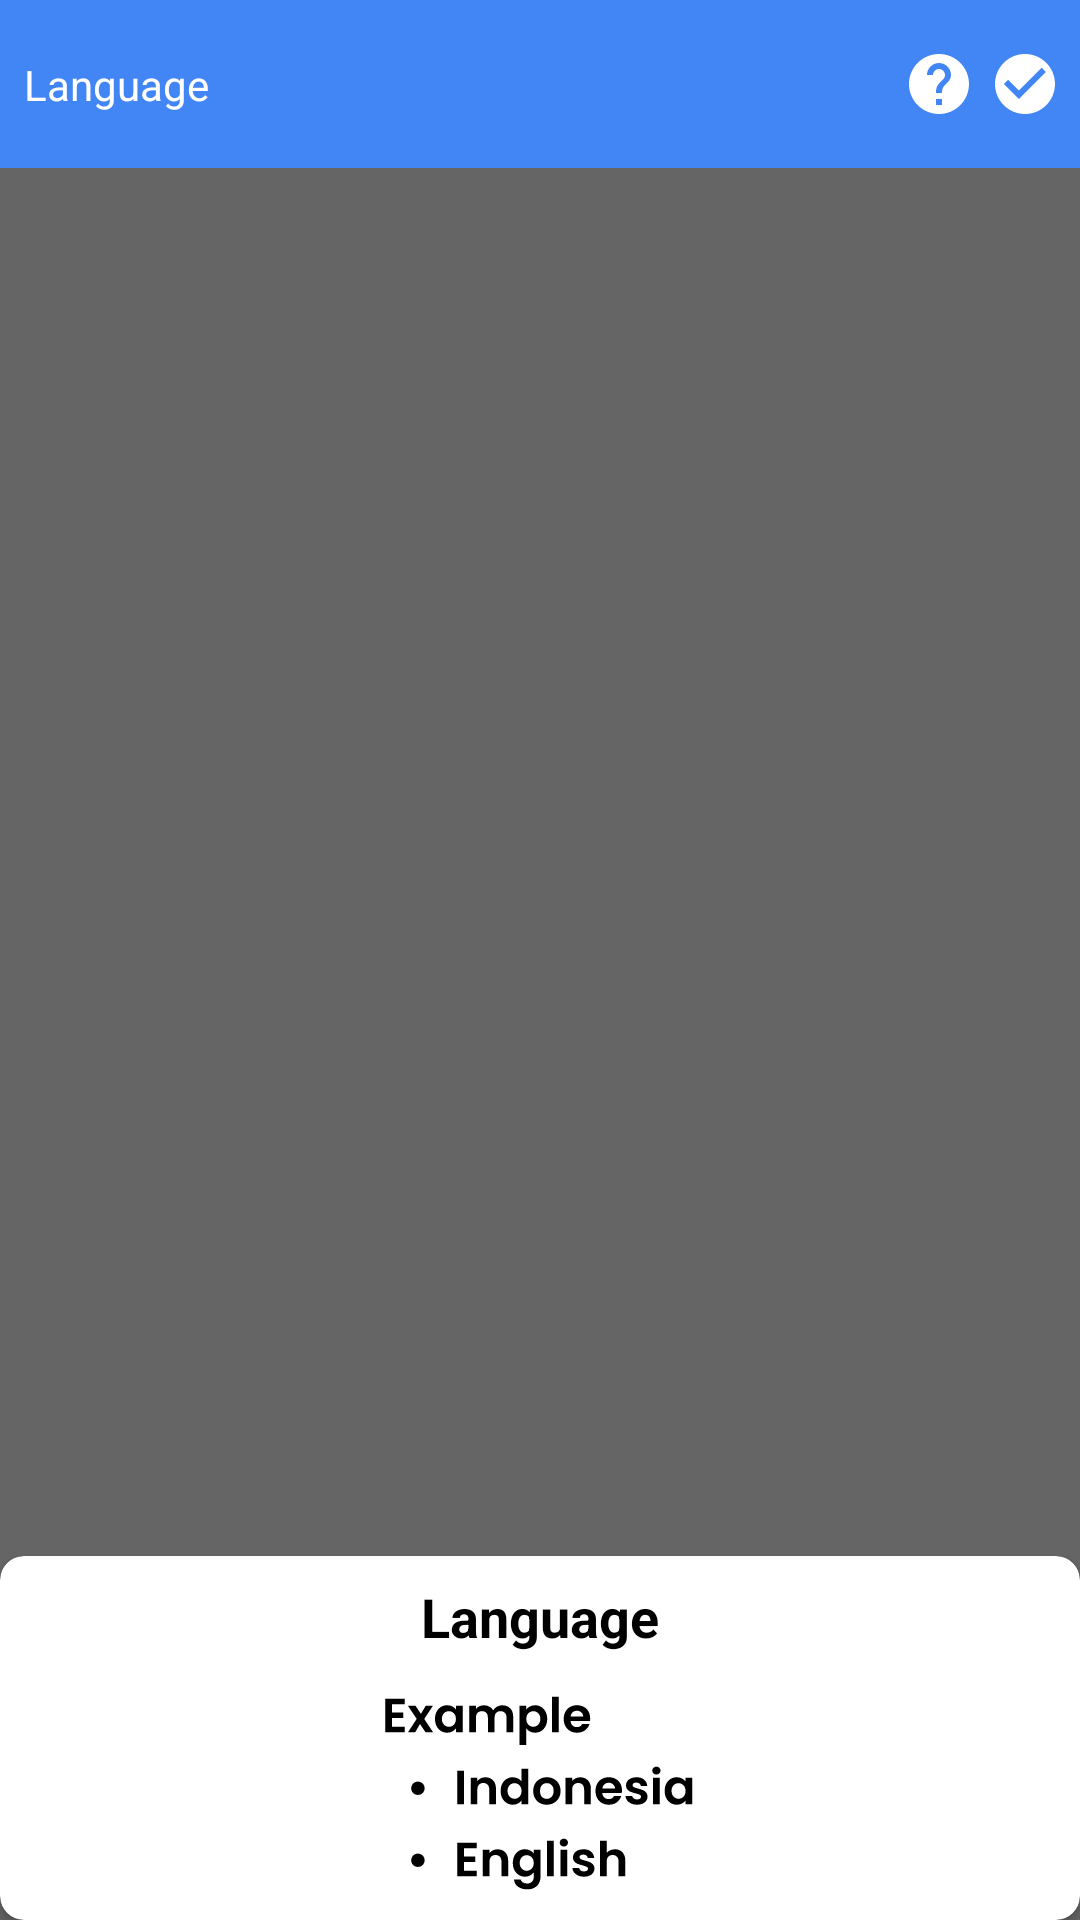

Icons on this 1080 × 1920 Android screen, each with the point to tap as point (x, y):
check: point (1025, 84)
help: point (939, 84)
